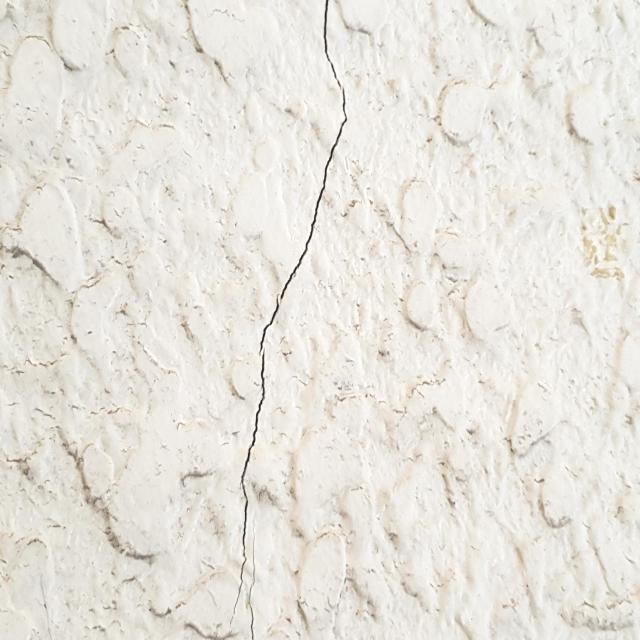SurfaceCrack: (205, 0, 383, 640)
